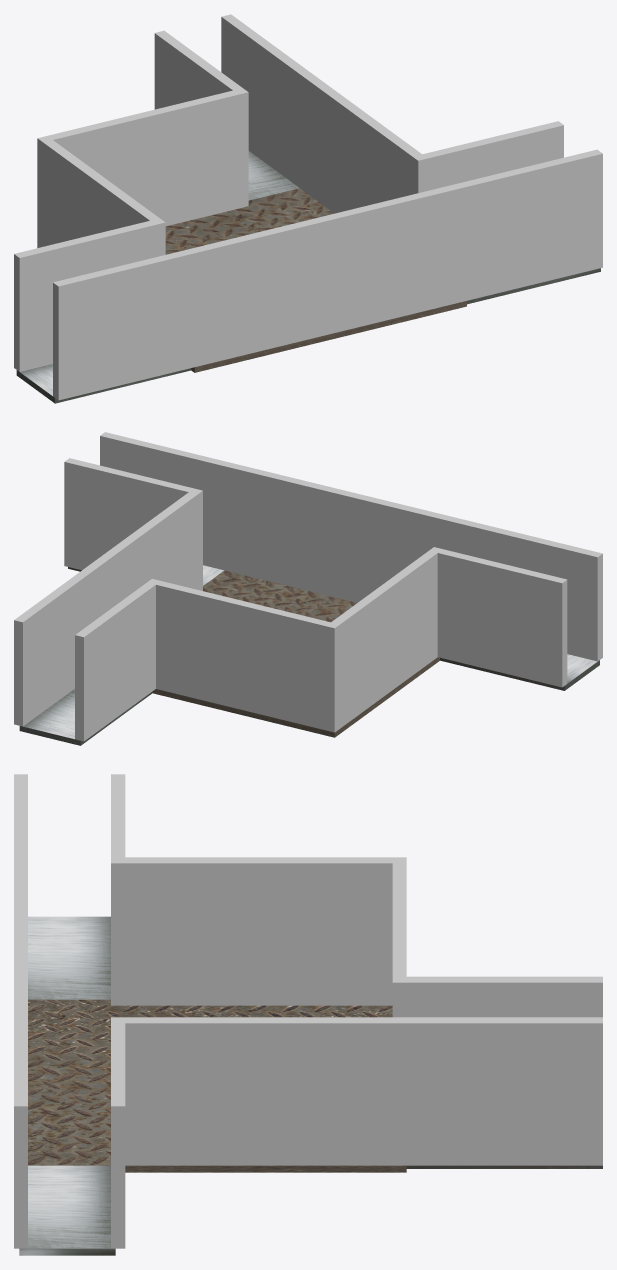
File: Starting Room #2.fbx
3 views of the same model, one above another, from view 1: azimuth 30°, elevation 25°; view 2: azimuth 150°, elevation 25°; view 3: azimuth 270°, elevation 25° (orthographic). The views are drawn at different scales.
Visible parts, largest first — view 1: Bottom Wall, Hallway Left Wall.002, Top Wall, Hallway Right Wall.001, Right Wall, Left Wall, Hallway Right Wall.002, Hallway Right Wall, Floor, Hallway Left Wall.001, Hallway Left Wall, Hallway Floor (+2 smaller); view 2: Bottom Wall, Top Wall, Hallway Right Wall.002, Left Wall, Hallway Left Wall, Hallway Left Wall.001, Hallway Right Wall, Right Wall, Hallway Left Wall.002, Hallway Right Wall.001, Floor, Hallway Floor (+1 smaller); view 3: Right Wall, Left Wall, Hallway Right Wall, Floor, Hallway Left Wall, Hallway Floor.001, Hallway Floor.002, Hallway Left Wall.001, Hallway Right Wall.001, Top Wall, Bottom Wall, Hallway Right Wall.002 (+2 smaller).
Boxes of the visible parts, x1,y1,x2,y2 form: Bottom Wall: (189, 183, 466, 366); Hallway Left Wall.002: (53, 249, 194, 400); Top Wall: (38, 72, 313, 226); Hallway Right Wall.001: (461, 149, 602, 300); Right Wall: (300, 72, 466, 295); Left Wall: (37, 138, 204, 366); Hallway Right Wall.002: (14, 221, 155, 371); Hallway Right Wall: (221, 14, 309, 187); Floor: (165, 188, 466, 372); Hallway Left Wall.001: (423, 121, 563, 190); Hallway Left Wall: (154, 30, 242, 109); Hallway Floor: (248, 151, 299, 200); Bottom Wall: (224, 462, 477, 602); Top Wall: (86, 565, 339, 731); Hallway Right Wall.002: (437, 549, 567, 687); Left Wall: (326, 523, 477, 732); Hallway Left Wall: (75, 582, 155, 741); Hallway Left Wall.001: (64, 458, 193, 570); Hallway Right Wall: (14, 567, 94, 726); Right Wall: (87, 463, 237, 620); Hallway Left Wall.002: (473, 523, 602, 661); Hallway Right Wall.001: (100, 432, 228, 570); Floor: (152, 570, 439, 737); Hallway Floor: (19, 689, 152, 745); Right Wall: (15, 1017, 406, 1165); Left Wall: (111, 857, 406, 1005); Hallway Right Wall: (406, 1017, 602, 1165); Floor: (28, 999, 406, 1172); Hallway Left Wall: (406, 976, 602, 1017); Hallway Floor.001: (19, 1165, 115, 1255); Hallway Floor.002: (28, 916, 110, 999); Hallway Left Wall.001: (111, 1023, 125, 1248); Hallway Right Wall.001: (14, 1023, 27, 1248); Top Wall: (392, 857, 406, 1165); Bottom Wall: (14, 857, 27, 1023); Hallway Right Wall.002: (111, 774, 125, 857).
Size of the model in its own units: 2000 by 420 by 1500.
